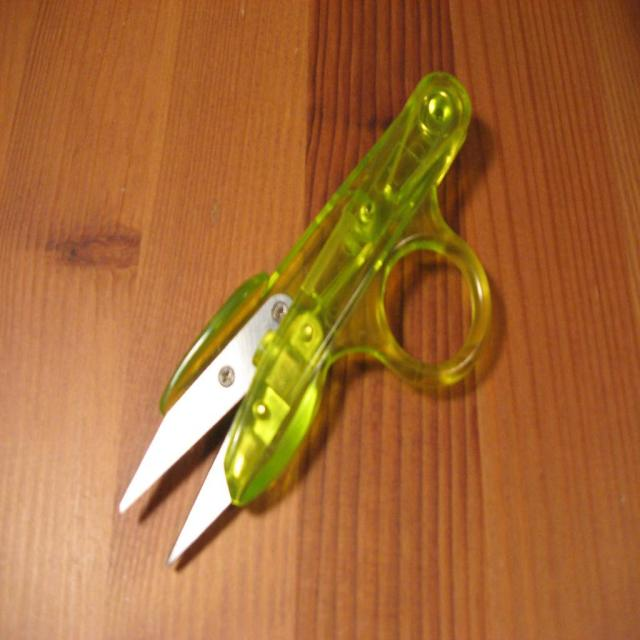scissors: (118, 69, 492, 565)
